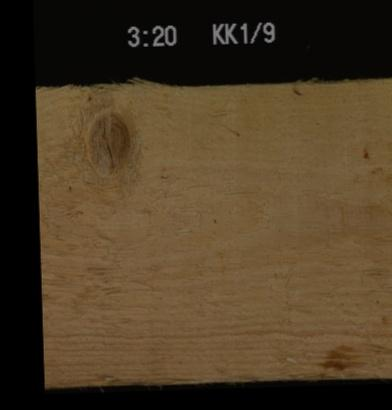sound_knot: (76, 84, 135, 190)
